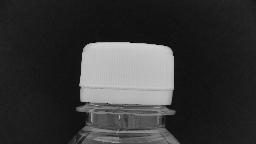Good Cap: (72, 39, 180, 122)
